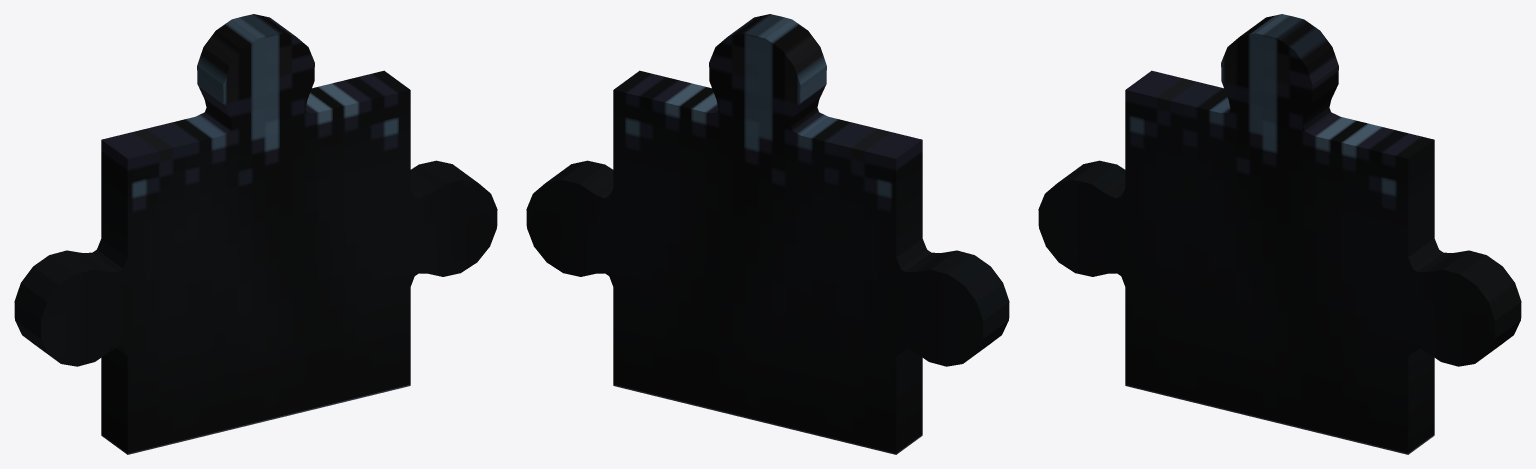
Rendered from Pieces_14_004.fbx.
The picture shows the model from 3 angles, left to right: view 1: azimuth 30°, elevation 25°; view 2: azimuth 150°, elevation 25°; view 3: azimuth 330°, elevation 25°; orthographic projection.
Parts seen in each view (by area): view 1: Pieces 14.004; view 2: Pieces 14.004; view 3: Pieces 14.004.
Part boxes in pixels (x1=…): Pieces 14.004: x1=14, y1=14, x2=497, y2=454; Pieces 14.004: x1=526, y1=14, x2=1009, y2=454; Pieces 14.004: x1=1038, y1=14, x2=1521, y2=454.
Size of the model in its own units: 130 by 105 by 12.98.
